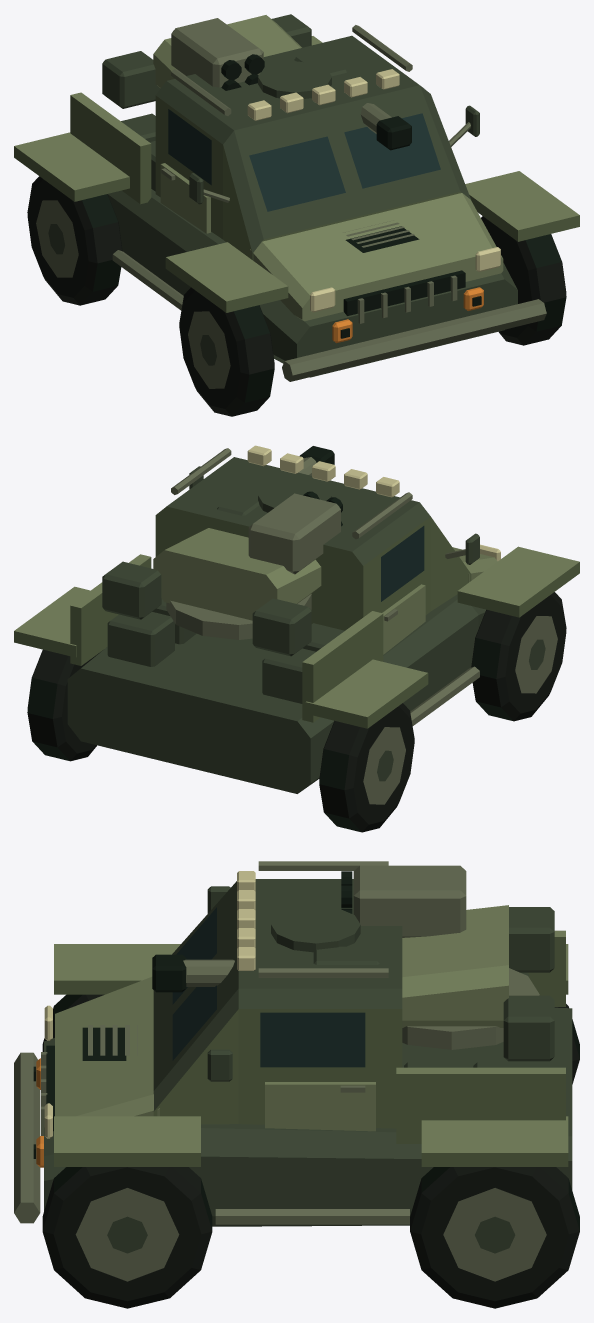
File: raider_field.glb
3 views of the same model, one above another, from view 1: azimuth 30°, elevation 25°; view 2: azimuth 150°, elevation 25°; view 3: azimuth 270°, elevation 25° (orthographic). The views are drawn at different scales.
Parts seen in each view (by area): view 1: Body, Wheel_-1.32_-1.25, Wheel_-1.32_1.13, Wheel_1.32_-1.25, WeaponPitch; view 2: Body, Wheel_-1.32_1.13, Wheel_-1.32_-1.25, Wheel_1.32_1.13, WeaponPitch; view 3: Body, Wheel_1.32_-1.25, Wheel_1.32_1.13, WeaponPitch.
Part boxes in pixels (bbox=[...]): Body: bbox=[14, 14, 579, 381]; Wheel_-1.32_-1.25: bbox=[179, 287, 274, 416]; Wheel_-1.32_1.13: bbox=[27, 176, 122, 305]; Wheel_1.32_-1.25: bbox=[481, 216, 566, 345]; WeaponPitch: bbox=[294, 51, 411, 150]; Body: bbox=[14, 445, 579, 793]; Wheel_-1.32_1.13: bbox=[319, 703, 414, 832]; Wheel_-1.32_-1.25: bbox=[471, 592, 566, 721]; Wheel_1.32_1.13: bbox=[27, 649, 100, 761]; WeaponPitch: bbox=[217, 446, 334, 515]; Body: bbox=[14, 861, 572, 1226]; Wheel_1.32_-1.25: bbox=[42, 1167, 212, 1308]; Wheel_1.32_1.13: bbox=[410, 1167, 579, 1308]; WeaponPitch: bbox=[152, 946, 379, 992].
Bounding box in the file's own units: 7.04 × 4.94 × 8.06.
Materials: 1 (1 with a texture image).
